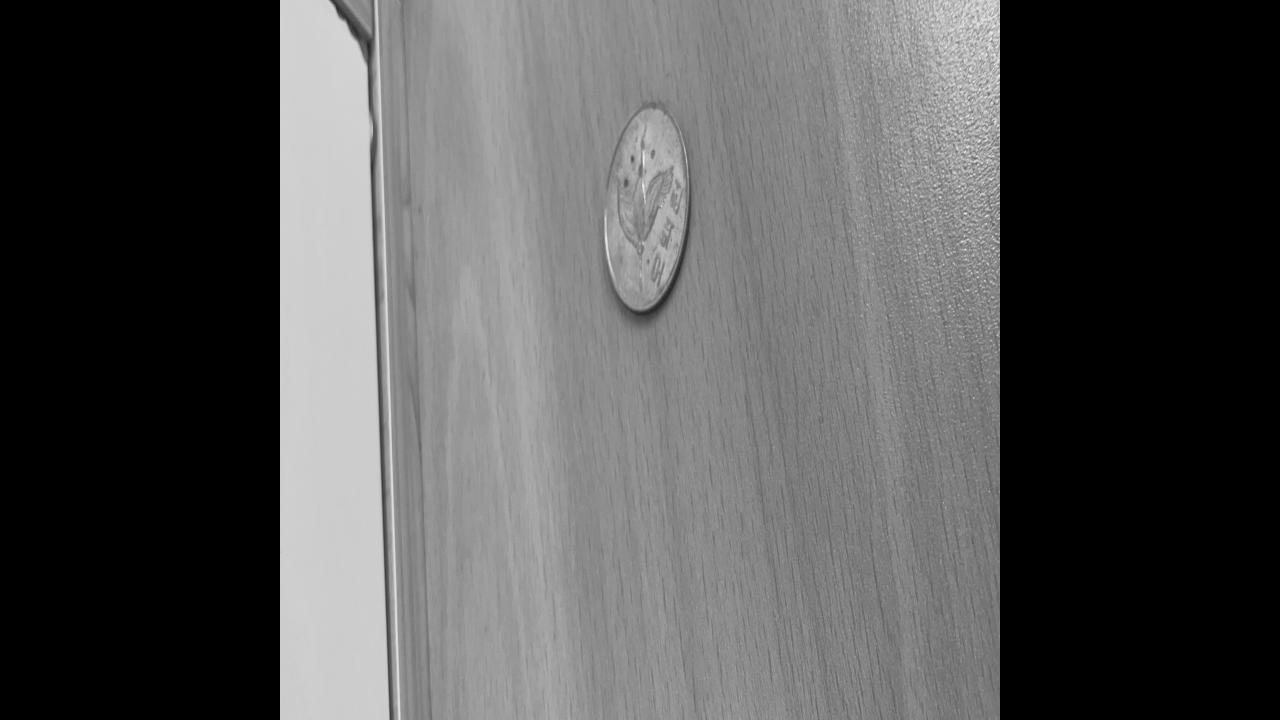coin: (602, 93, 692, 319)
